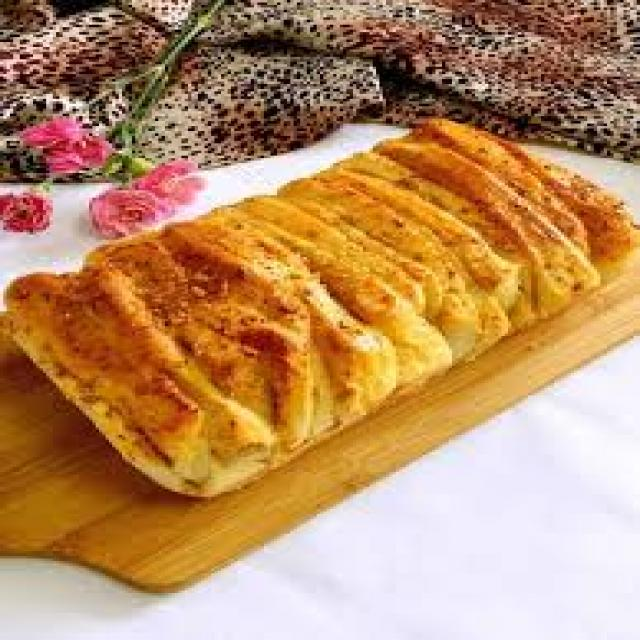organic waste: (0, 114, 637, 499), (17, 114, 112, 173), (116, 156, 202, 202), (86, 185, 165, 235), (0, 185, 49, 229)
